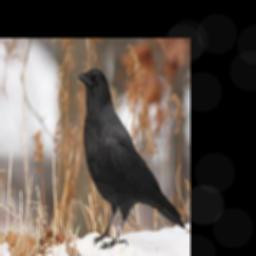Crow: (75, 63, 186, 250)
